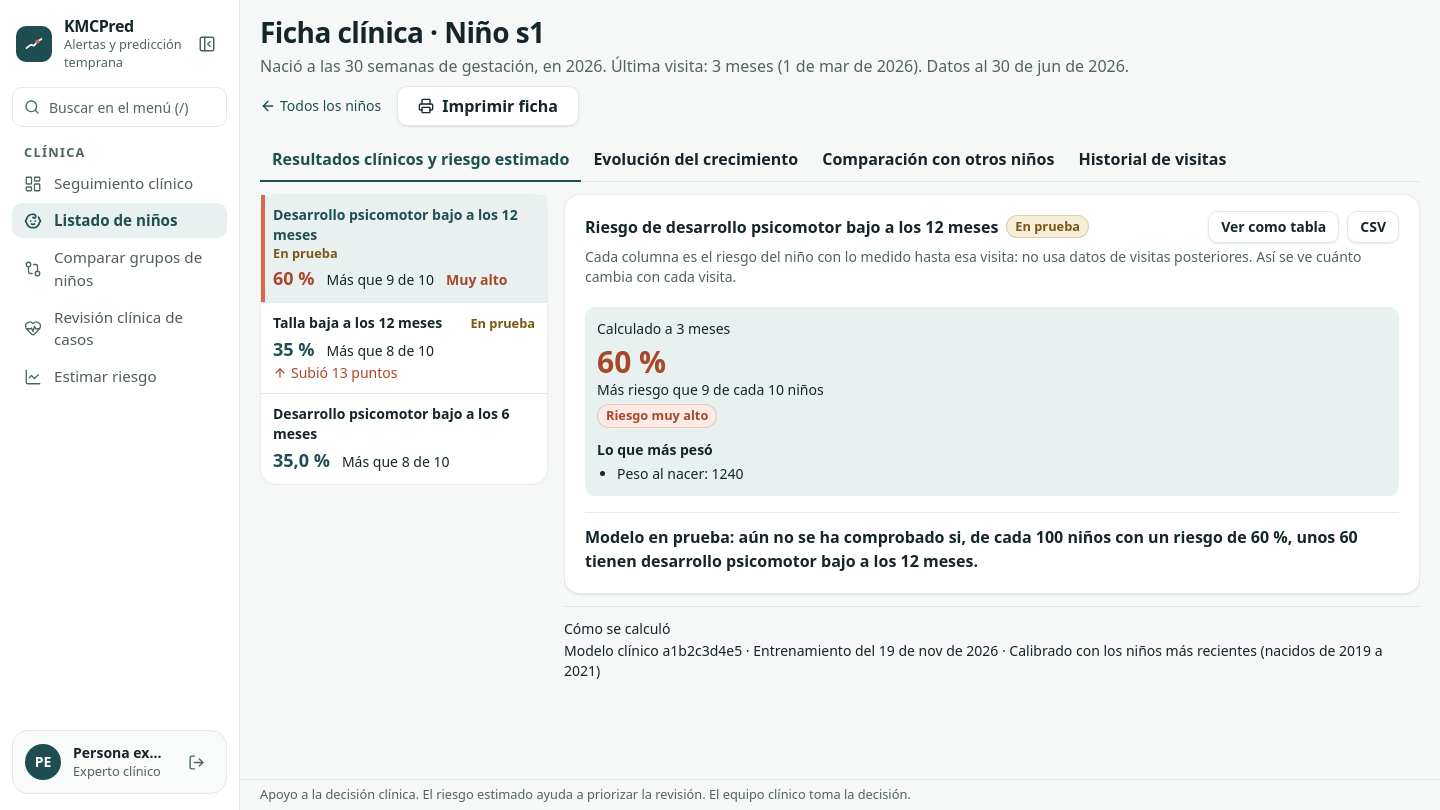
ficha del niño en pestañas › una pestaña «Desenlaces» con todos y luego una por pregunta; abre «Desenlaces» con el de más riesgo y su riesgo visita por visita
Expected: the heading "Calculado a 3 meses" is shown, x1=597 y1=319 x2=730 y2=338
Note: un clic en la lista abre la talla baja, con sus dos visitas y el modelo en prueba
Step 1. Click the button "Talla baja a los 12 meses" → coordinates (404, 348), box x1=261 y1=303 x2=547 y2=393
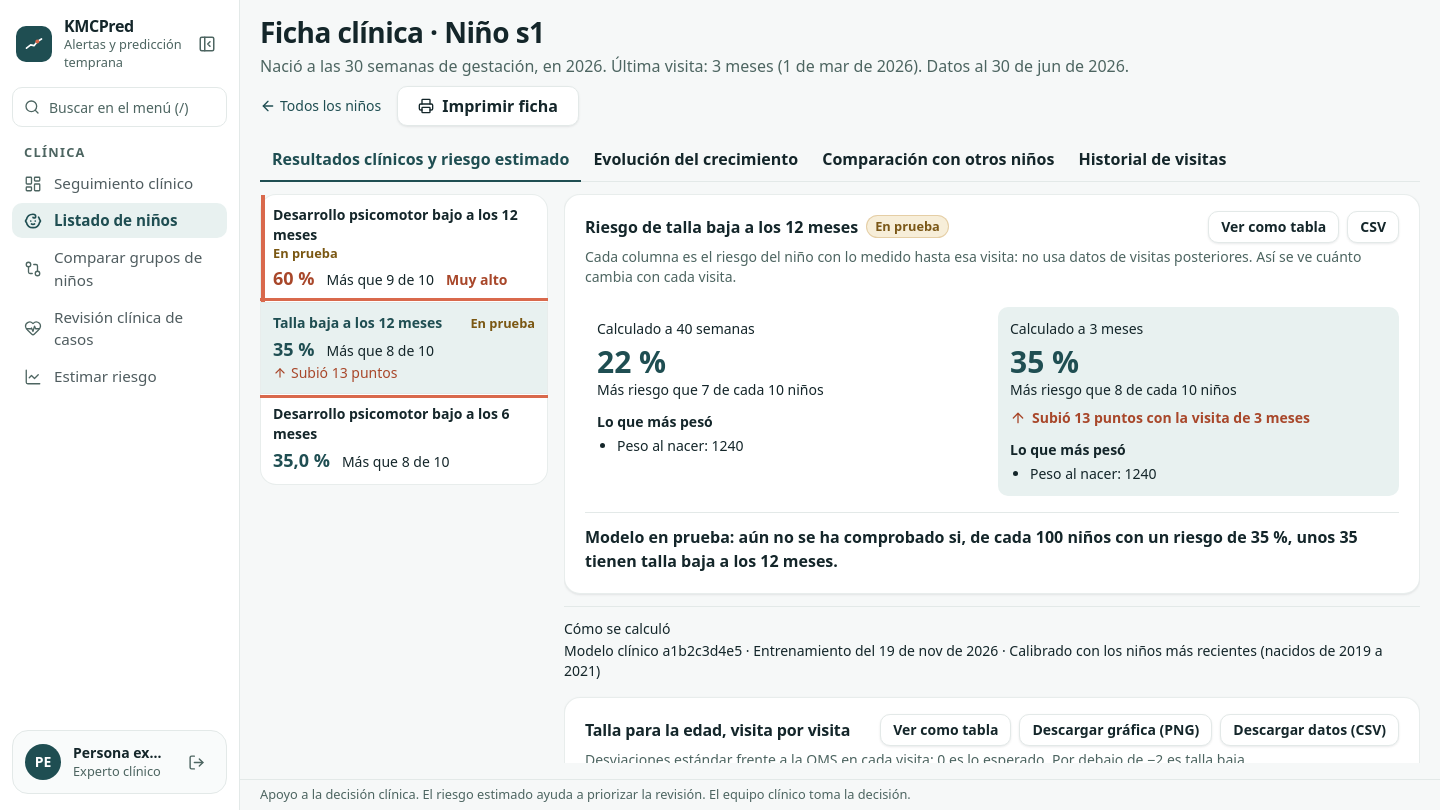
Expected: the heading "Calculado a 3 meses" is shown, x1=1010 y1=319 x2=1143 y2=338
Result: the heading "Calculado a 40 semanas" is shown at x1=597 y1=319 x2=755 y2=338
Result: the text "Modelo en prueba: aún no se ha comprobado si, de cada 100 niños con un riesgo de 35 %, unos 35 tienen talla baja a los 1" is shown at x1=585 y1=526 x2=1358 y2=572
